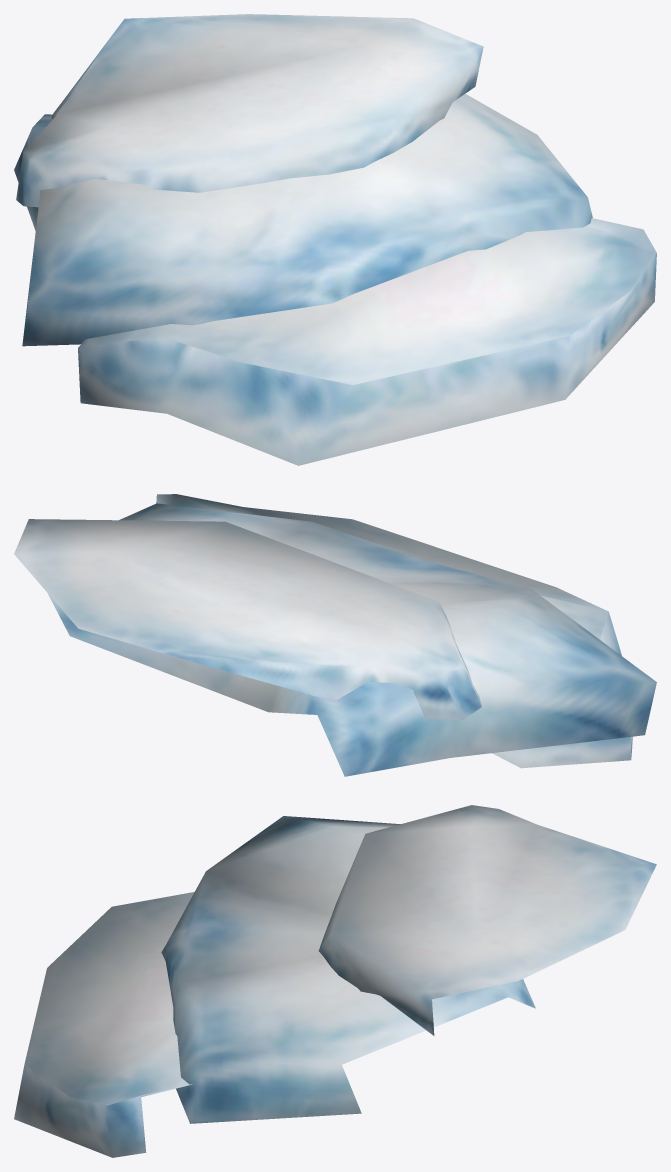
File: SM_Stairs_02.fbx
3 renders of one model, top to bottom at view 1: azimuth 30°, elevation 25°; view 2: azimuth 150°, elevation 25°; view 3: azimuth 270°, elevation 25°, orthographic. The views are drawn at different scales.
Visible parts, largest first — view 1: SM_Stairs_02; view 2: SM_Stairs_02; view 3: SM_Stairs_02.
Boxes of the visible parts, bbox=[...] form: SM_Stairs_02: bbox=[14, 14, 656, 465]; SM_Stairs_02: bbox=[14, 494, 656, 776]; SM_Stairs_02: bbox=[14, 805, 656, 1157].
Size of the model in its own units: 4.94 by 1.73 by 4.87.
